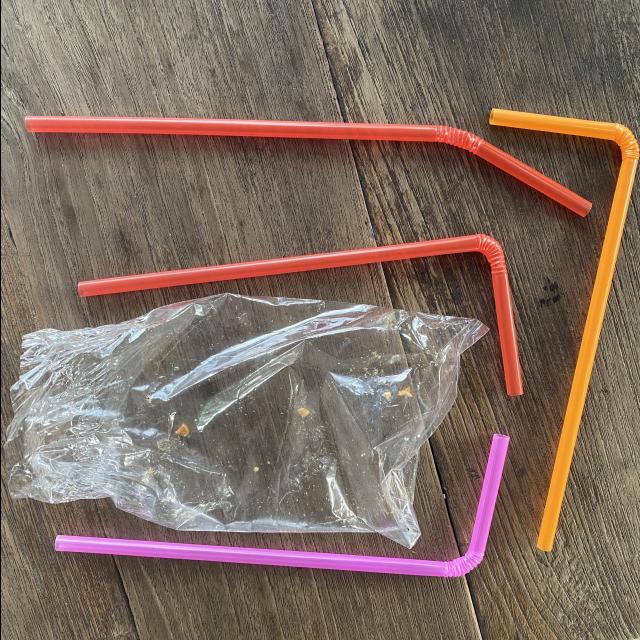plastik: (4, 294, 487, 548), (76, 234, 521, 396), (489, 108, 639, 551), (54, 434, 509, 576), (25, 116, 590, 216)
